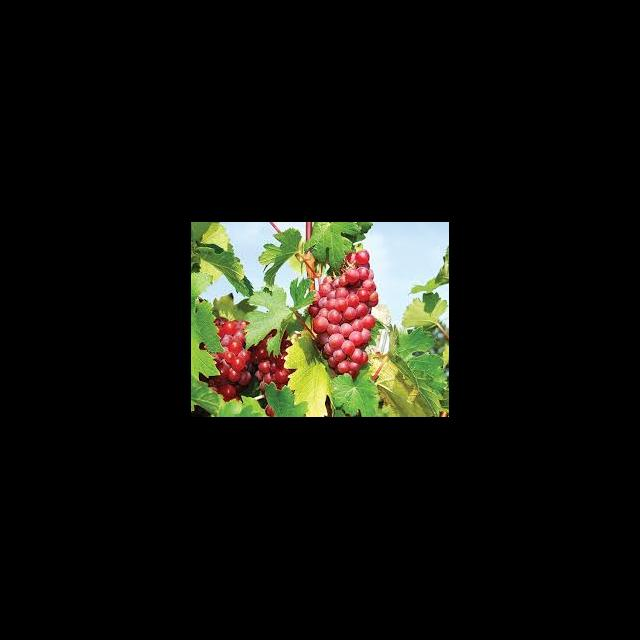grape: (307, 250, 378, 378)
